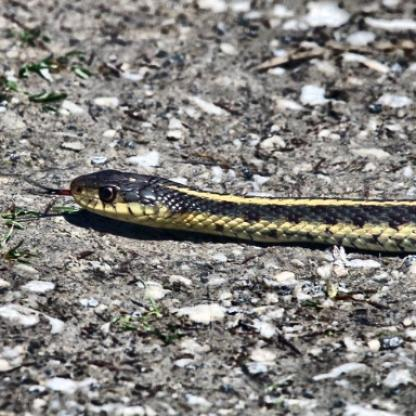Snake: (40, 160, 416, 258)
